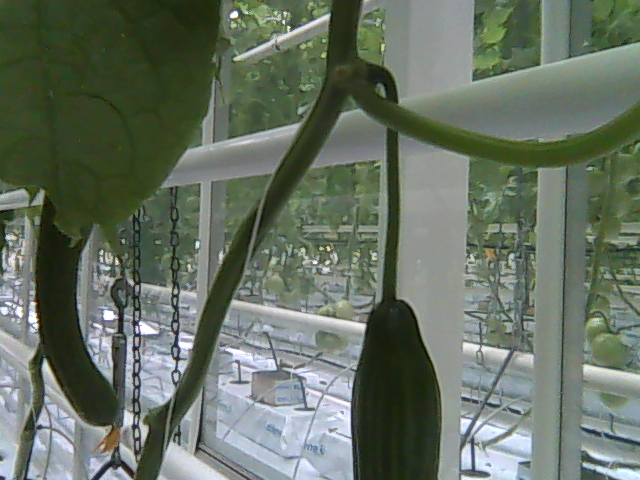concombre: (33, 192, 125, 458), (349, 286, 444, 480)
